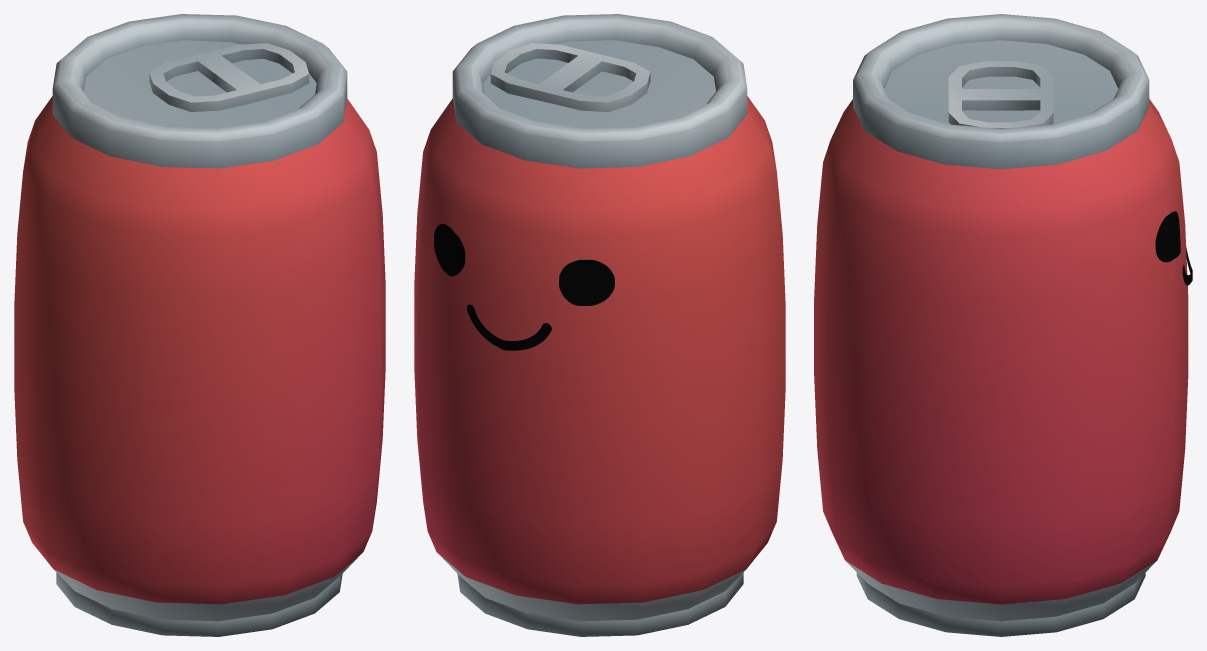
Rendered from can_small_red_smile.fbx.
3 views of the same model, side by side, from view 1: azimuth 30°, elevation 25°; view 2: azimuth 150°, elevation 25°; view 3: azimuth 270°, elevation 25° (orthographic).
Parts seen in each view (by area): view 1: can_s_red; view 2: can_s_red, smile_can; view 3: can_s_red, smile_can.
Part boxes in pixels (box(x1,y1,x2,y2)): can_s_red: box(14, 14, 385, 636); can_s_red: box(414, 14, 785, 636); smile_can: box(433, 224, 615, 350); can_s_red: box(814, 14, 1188, 636); smile_can: box(1155, 211, 1192, 285).
Bounding box in the file's own units: 64.77 × 96.96 × 65.55.
